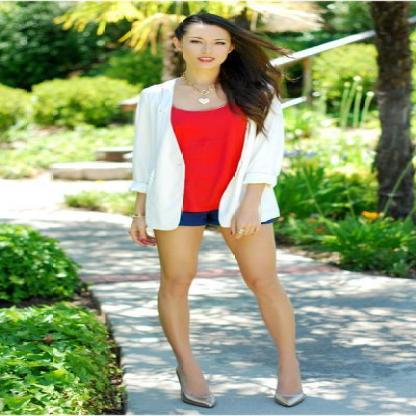jacket: (120, 78, 304, 236)
shirt: (171, 100, 247, 212)
shoe: (176, 363, 304, 414)
shorts: (179, 209, 219, 230)
